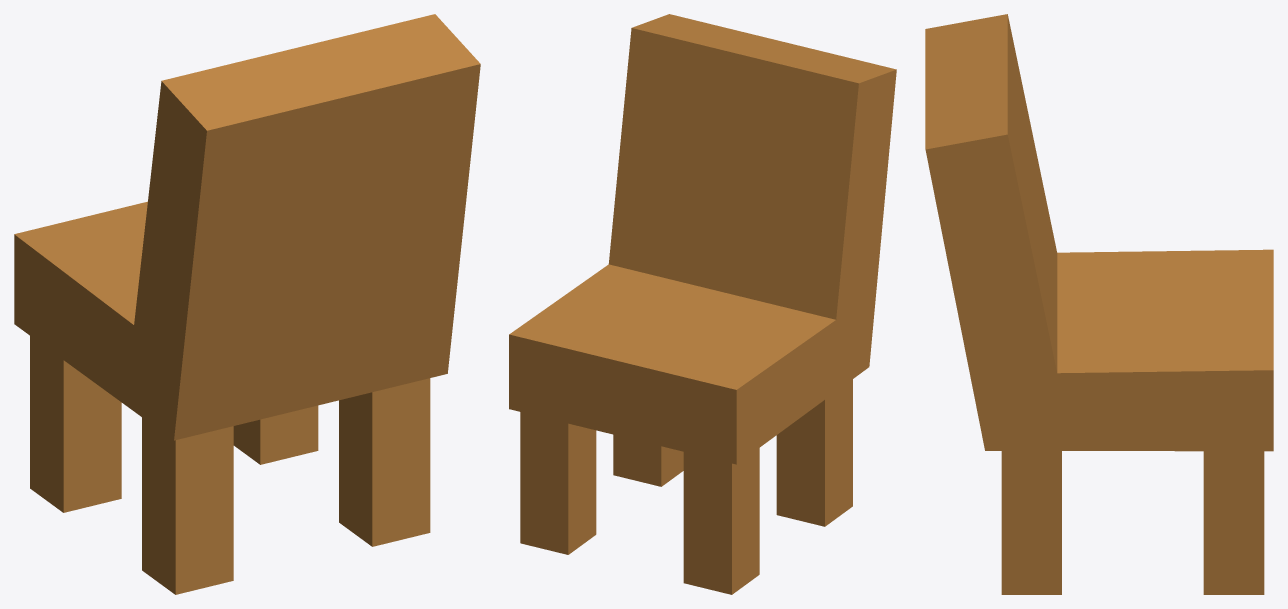
The model's file is chair01_s01.FBX.
3 views of the same model, side by side, from view 1: azimuth 30°, elevation 25°; view 2: azimuth 150°, elevation 25°; view 3: azimuth 270°, elevation 25° (orthographic). The views are drawn at different scales.
Visible parts, largest first — view 1: chair01_s01; view 2: chair01_s01; view 3: chair01_s01.
Part boxes in pixels (x1,y1,x2,y2): chair01_s01: [14, 14, 480, 594]; chair01_s01: [509, 14, 896, 594]; chair01_s01: [925, 14, 1273, 594].
Size of the model in its own units: 63.49 by 77.48 by 114.
1 material, 1 textured.
